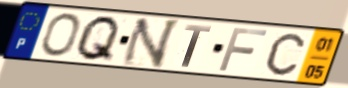C: (264, 32, 307, 77)
F: (216, 26, 270, 74)
N: (117, 18, 183, 70)
O: (38, 11, 82, 59)
Q: (73, 14, 123, 64)
T: (180, 23, 214, 69)
